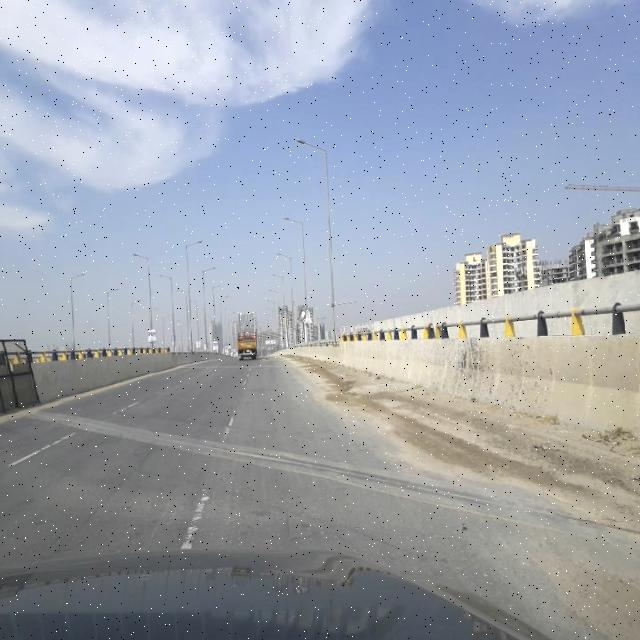D44: (177, 482, 212, 553)
